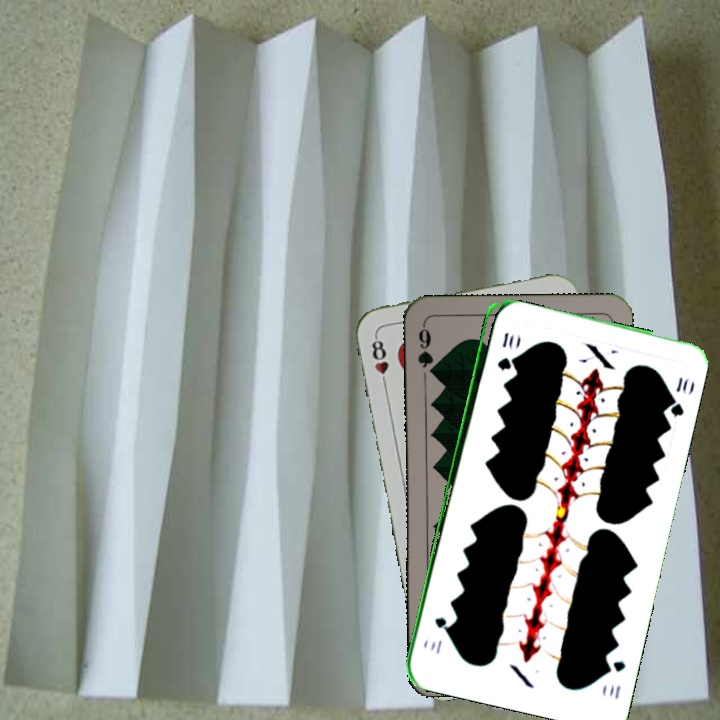G10: (601, 656, 629, 701), (493, 328, 511, 374)
G9: (413, 321, 439, 380)
H8: (367, 331, 391, 390)
